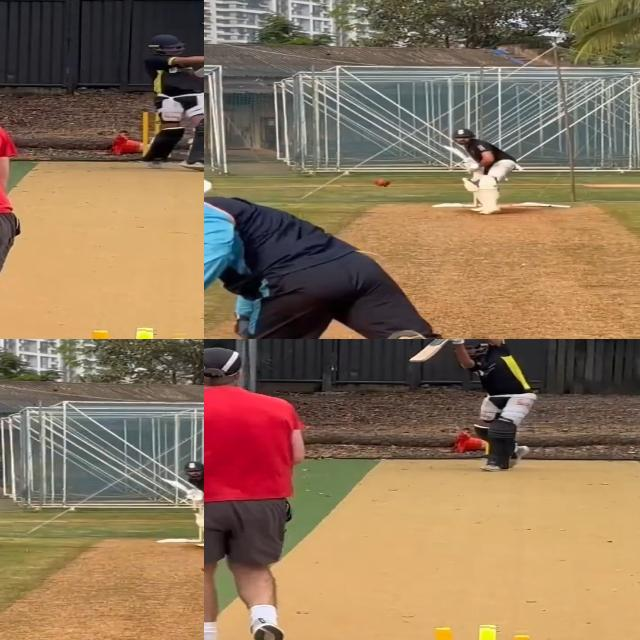Cricket ball: (374, 178, 391, 188), (200, 566, 204, 571)
